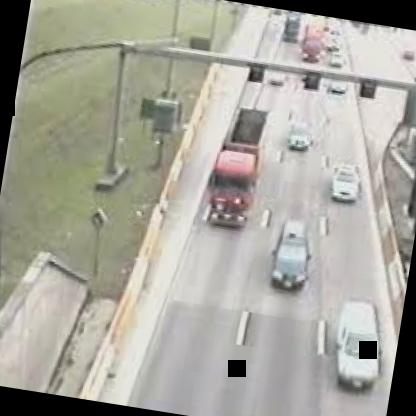car: (193, 97, 276, 244), (322, 292, 398, 406), (252, 193, 326, 310), (323, 153, 373, 222)
